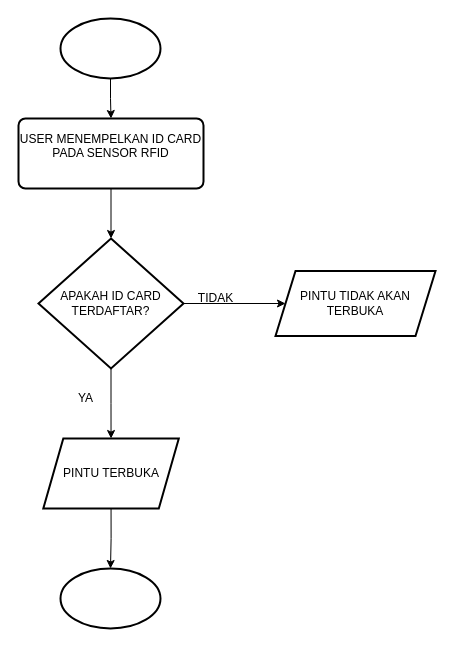
This 453x646 diagram has some shape labels left out. Here are the shapes that lost their labels. From the top down, the centre of each, then its label:
the point at 110,48: START
the point at 110,598: FINISH
